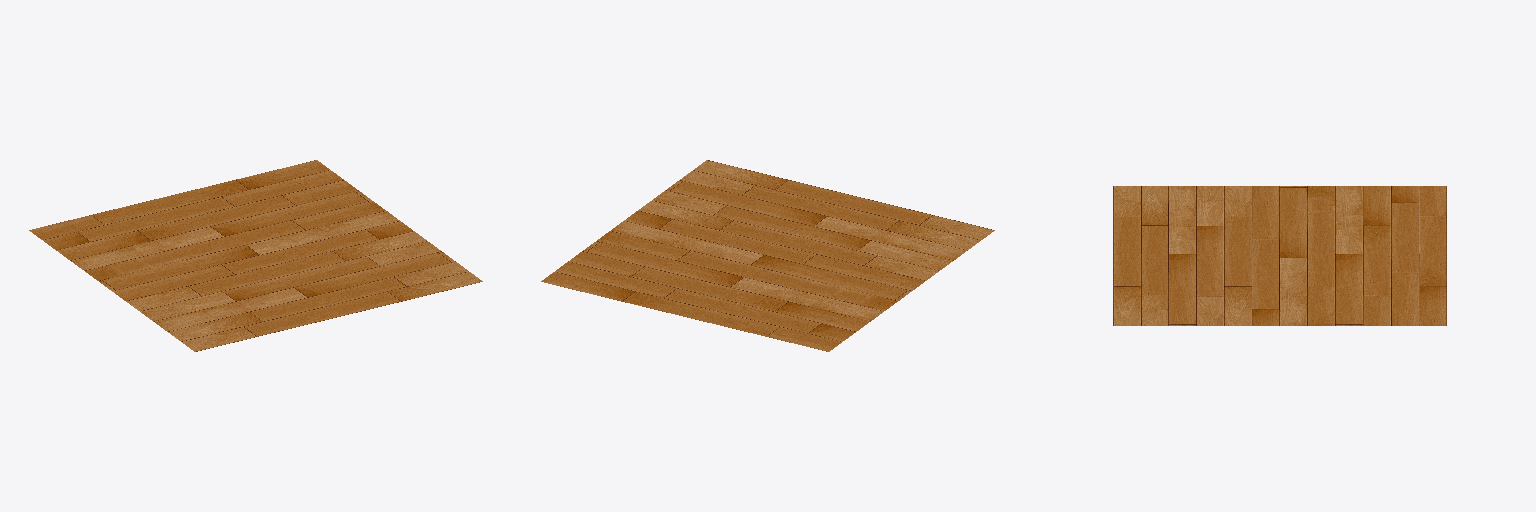
The picture shows the model from 3 angles: view 1: azimuth 30°, elevation 25°; view 2: azimuth 150°, elevation 25°; view 3: azimuth 270°, elevation 25°; orthographic projection.
Visible parts, largest first — view 1: Plane; view 2: Plane; view 3: Plane.
Part boxes in pixels (x1,y1,x2,y2): Plane: (29,160,482,351); Plane: (541,160,994,351); Plane: (1113,186,1446,325).
Bounding box in the file's own units: 3.04 × 0 × 3.04.
Materials: 1 (1 with a texture image).